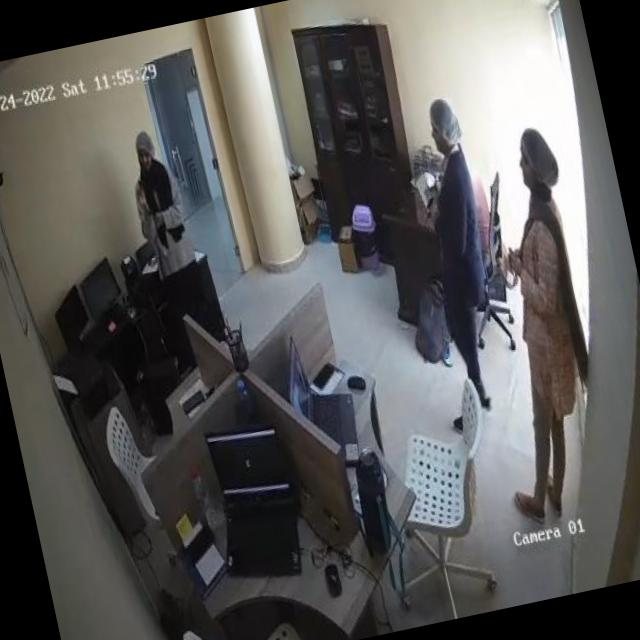hairnet: (517, 124, 562, 191), (426, 95, 468, 151), (134, 128, 157, 161)
